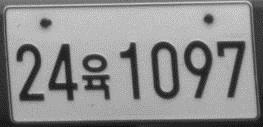0: (150, 41, 180, 101)
1: (115, 39, 149, 101)
2: (15, 42, 45, 104)
4: (46, 41, 79, 103)
7: (215, 39, 247, 100)
9: (183, 38, 213, 100)
육: (80, 52, 111, 101)
